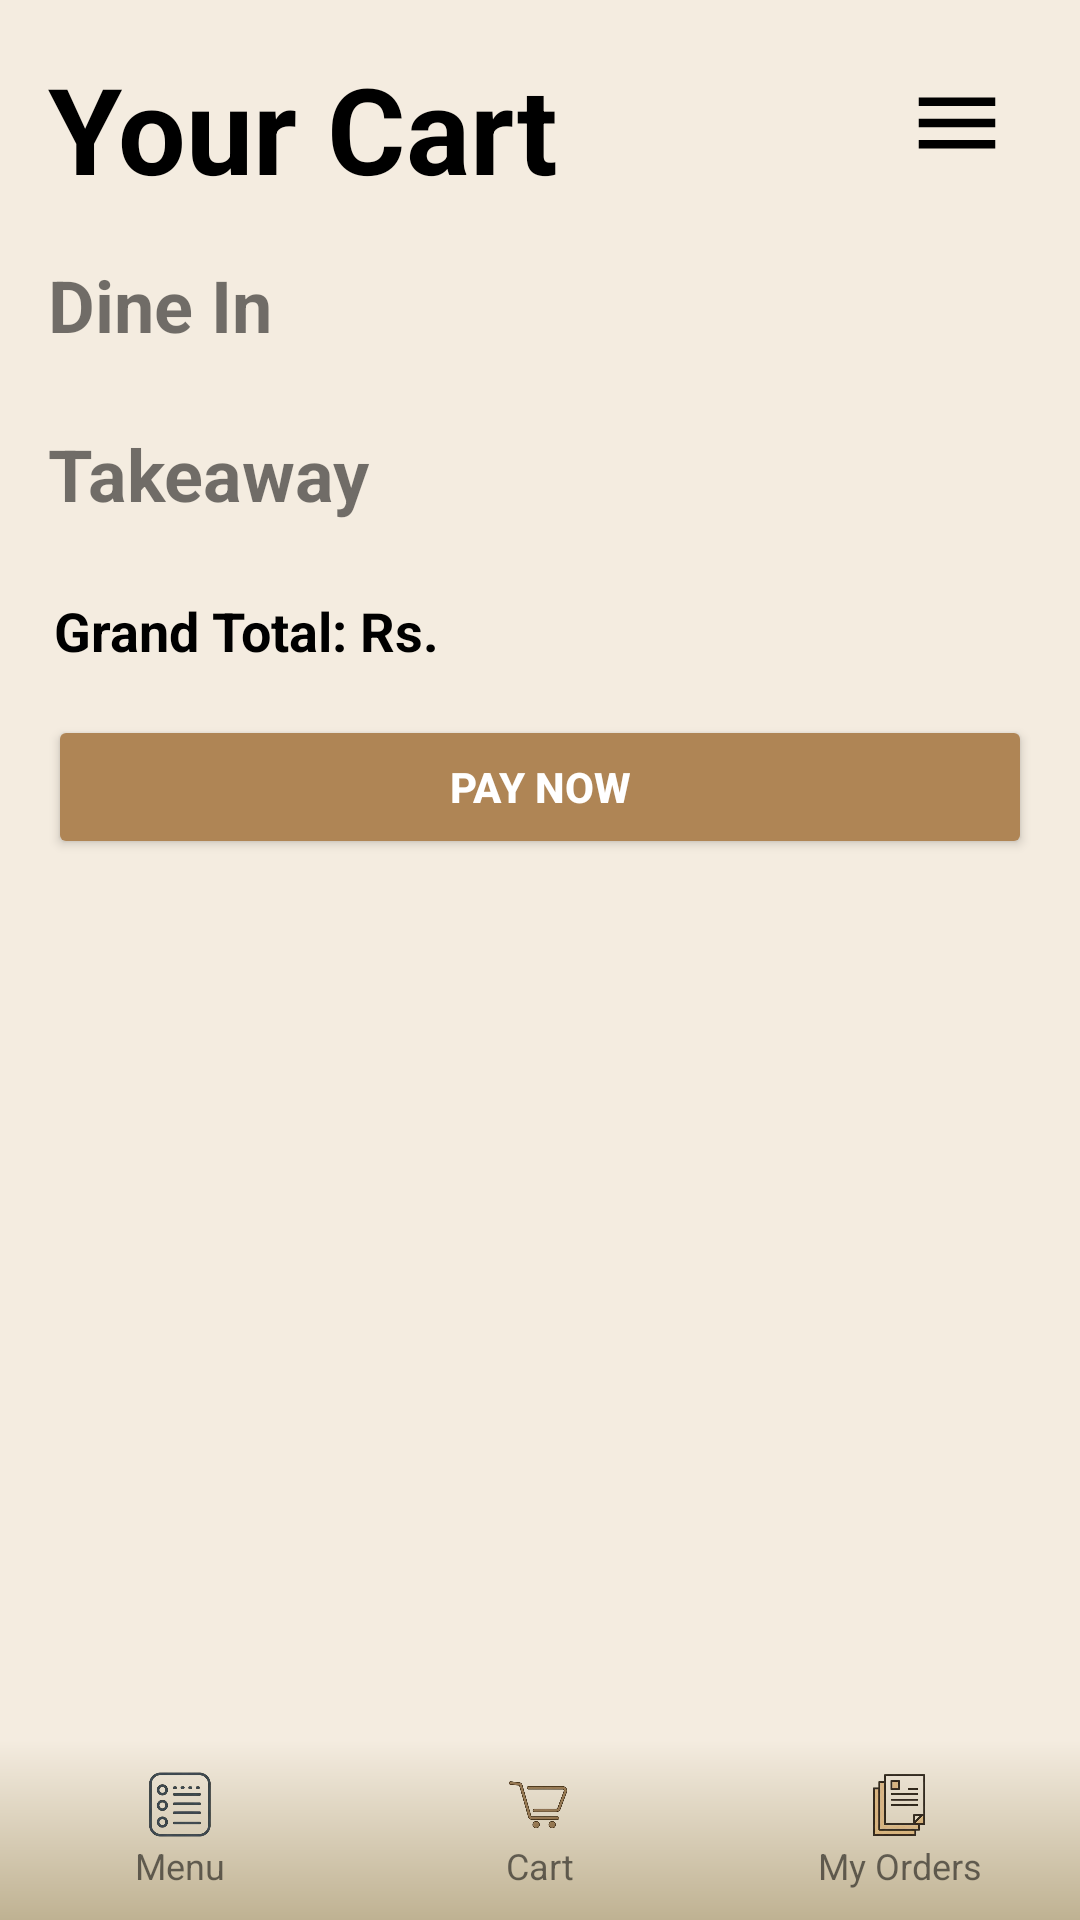

Where icons sit on this 1080x1920 app screen, as (x1, y1, x2, y2):
Menu Button: (918, 97, 996, 149)
